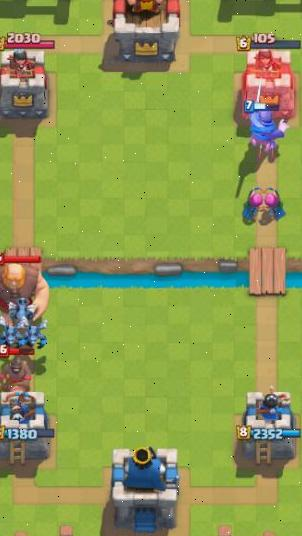enemy_giant: (0, 249, 48, 317)
player_archers: (259, 182, 288, 224), (238, 184, 265, 222)
player_knight: (248, 105, 288, 157)
player_minions: (7, 295, 40, 329), (19, 322, 49, 347), (0, 326, 24, 351)
